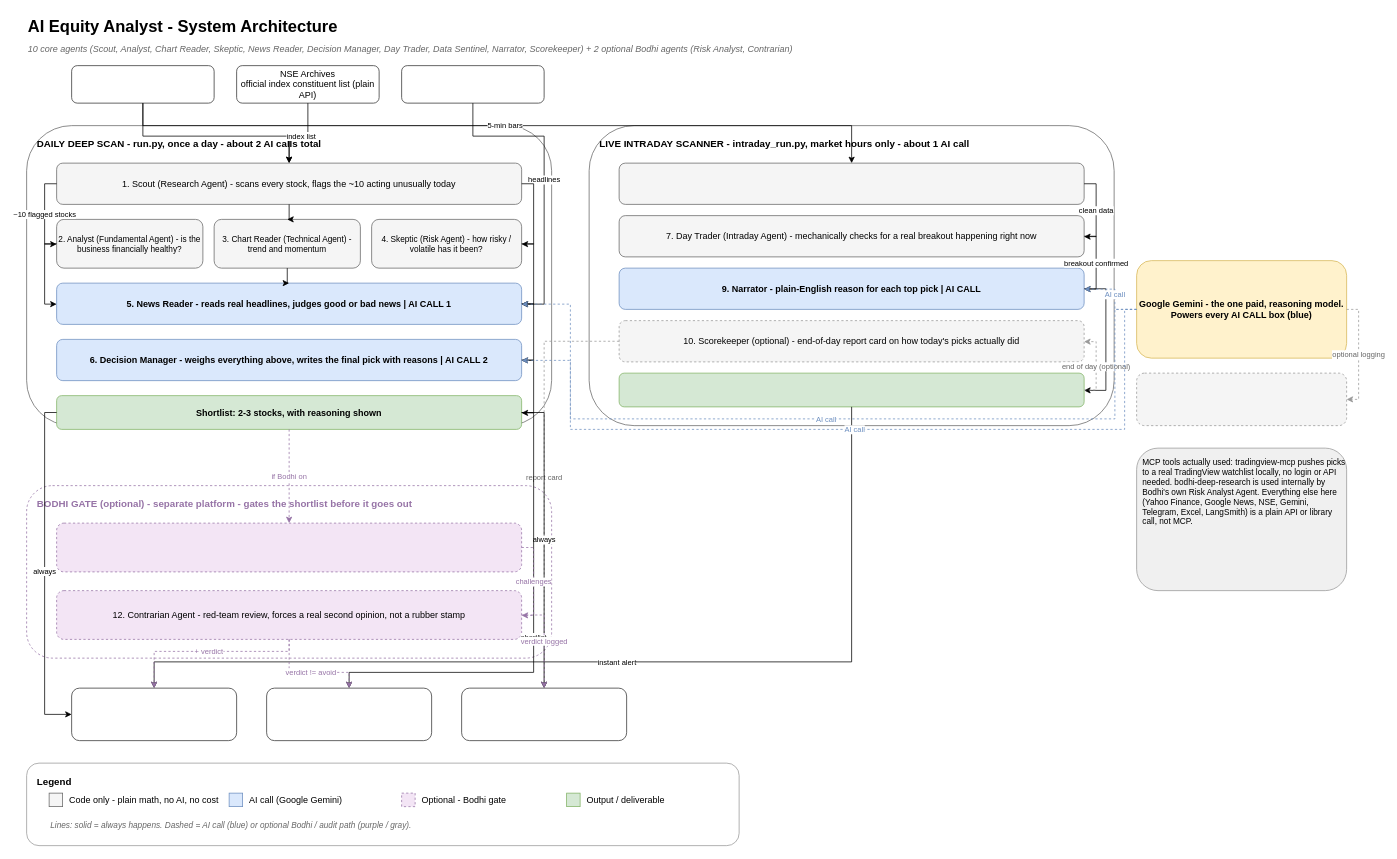
This 1397x859 diagram has some shape labels left out. The centre of each missing label's shape, as x and y in pixels:
"11. Risk Analyst Agent - live web research on each pick's real-world risk" goes at (289,547).
"8. Data Sentinel - catches broken / fake-looking price data before it's trusted" goes at (851,183).
"Excel Tracker - portfolio_tracker.xlsx, logs every pick and verdict" goes at (544,714).
"Google News real headlines (plain API)" goes at (472,84).
"LangSmith (optional) - logs every AI call for later audit" goes at (1241,399).
"Live alerts: breakout picks + plain-English reason" goes at (851,389).
"Telegram - every pick alerted, verdict shown inline when available" goes at (154,714).
"TradingView (local) - via tradingview-mcp, verdict-gated watchlist" goes at (349,714).
"Yahoo Finance prices + fundamentals (plain API)" goes at (142,84).
